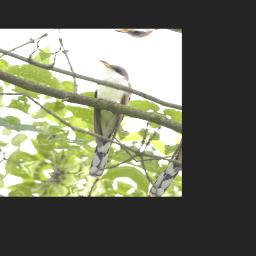Cuckoo: (48, 58, 151, 180)
